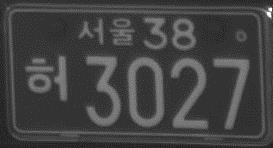0: (126, 55, 166, 127)
2: (171, 56, 210, 131)
3: (85, 54, 121, 127), (141, 16, 168, 50)
7: (212, 56, 251, 131)
8: (171, 16, 197, 51)
서울_O: (76, 16, 136, 48)
허: (23, 54, 69, 103)
